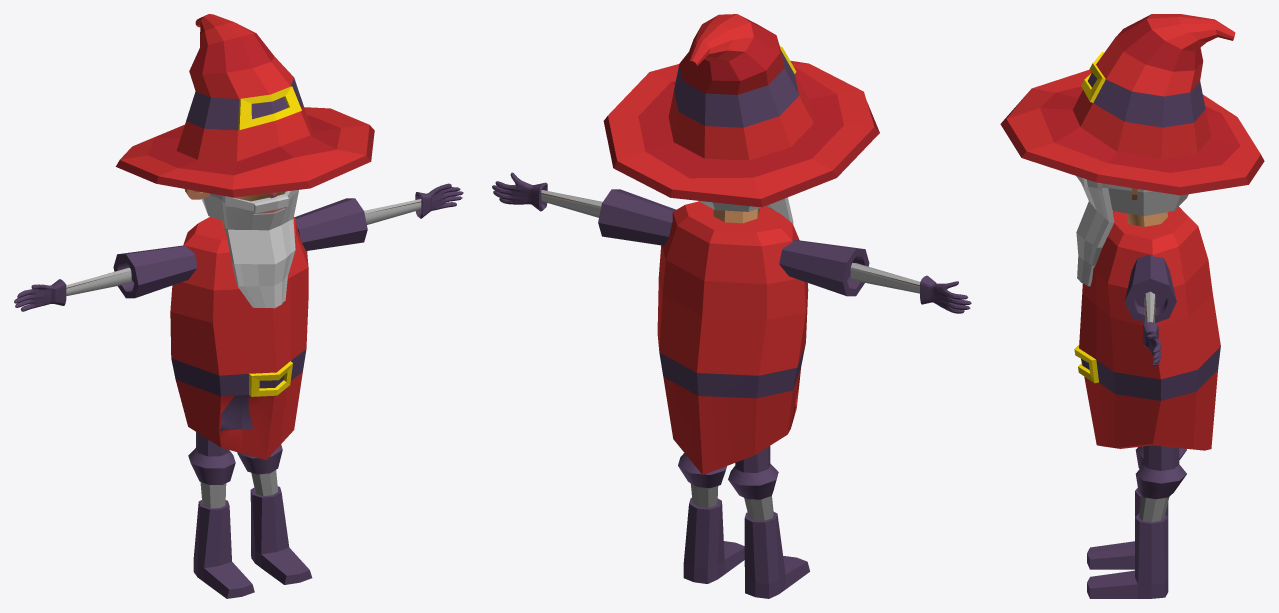
Rendered from Wizard.fbx.
3 renders of one model, left to right at view 1: azimuth 30°, elevation 25°; view 2: azimuth 150°, elevation 25°; view 3: azimuth 270°, elevation 25°, orthographic. The views are drawn at different scales.
Visible parts, largest first — view 1: Wizard; view 2: Wizard; view 3: Wizard.
Part boxes in pixels (bbox=[...]): Wizard: bbox=[14, 14, 463, 598]; Wizard: bbox=[492, 14, 971, 598]; Wizard: bbox=[1000, 14, 1264, 598].
Bounding box in the file's own units: 1.46 × 1.65 × 0.7082.
1 material, 1 textured.
